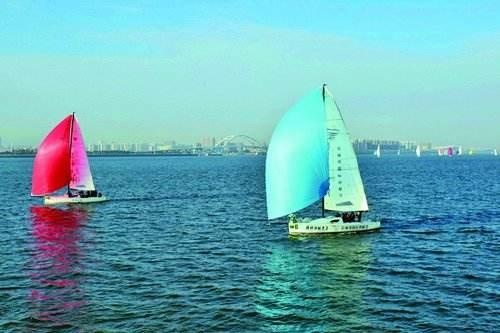fanchuan: (262, 80, 391, 240), (29, 112, 113, 207)
